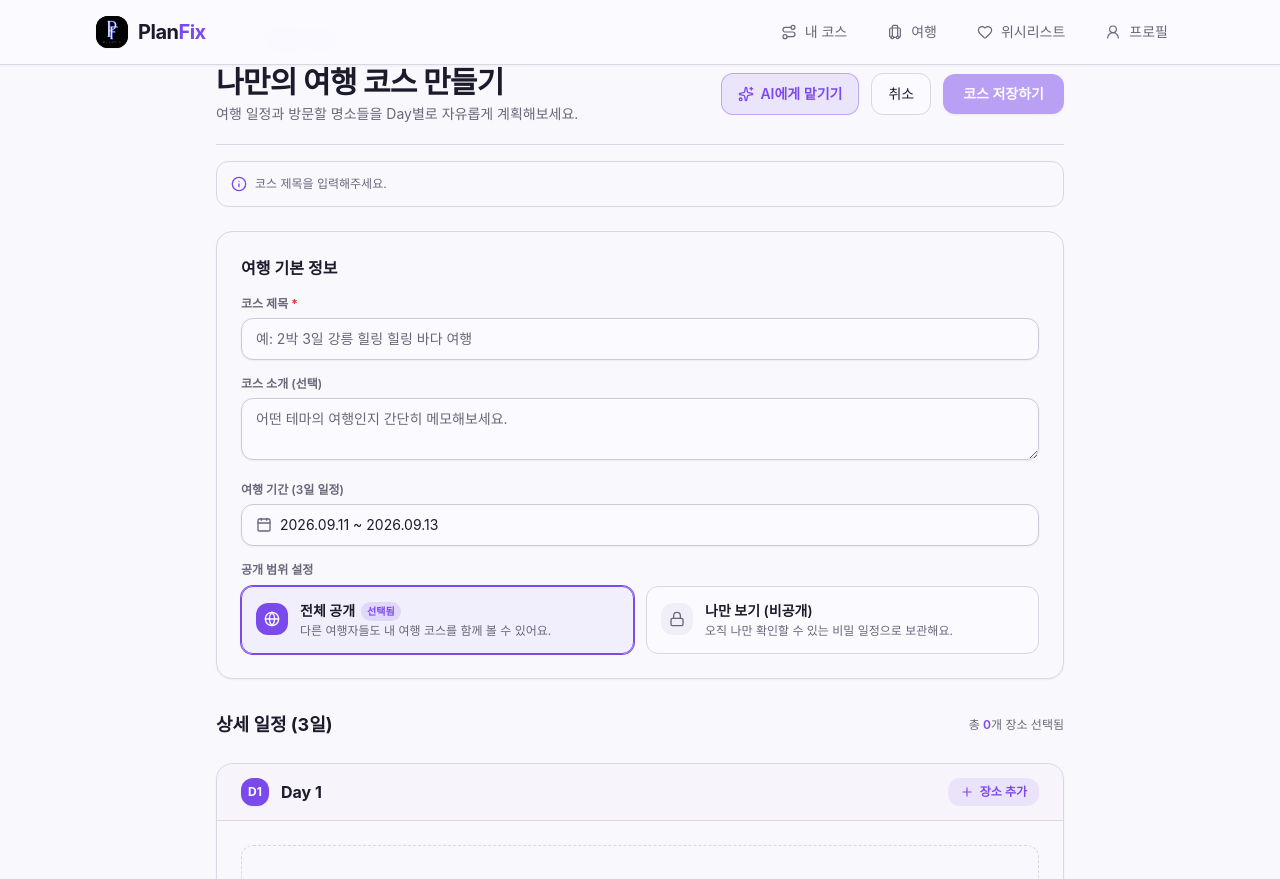
Test: CourseCreatePage › 장소 추가를 누르면 모달이 열리고 장소를 선택하면 해당 Day에 추가된다
The width and height of the screenshot is (1280, 879).
Type "강릉 바다 여행" into the field with placeholder "예: 2박 3일 강릉 힐링 힐링 바다 여행" at point(640, 339), box [241,318,1039,360]
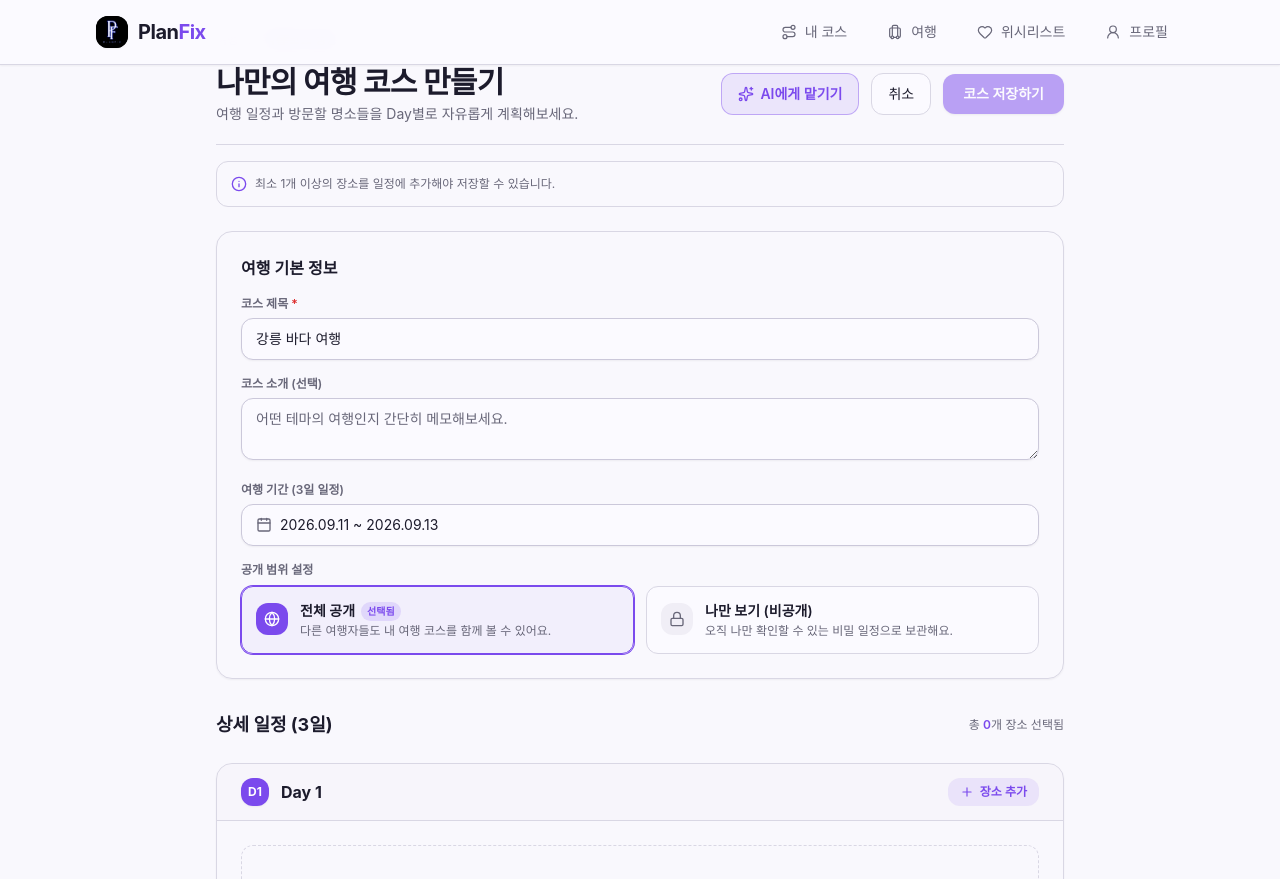
// Day 1의 장소 추가 버튼 클릭
Click the button "장소 추가" at point(993, 792), box [948,778,1039,806]
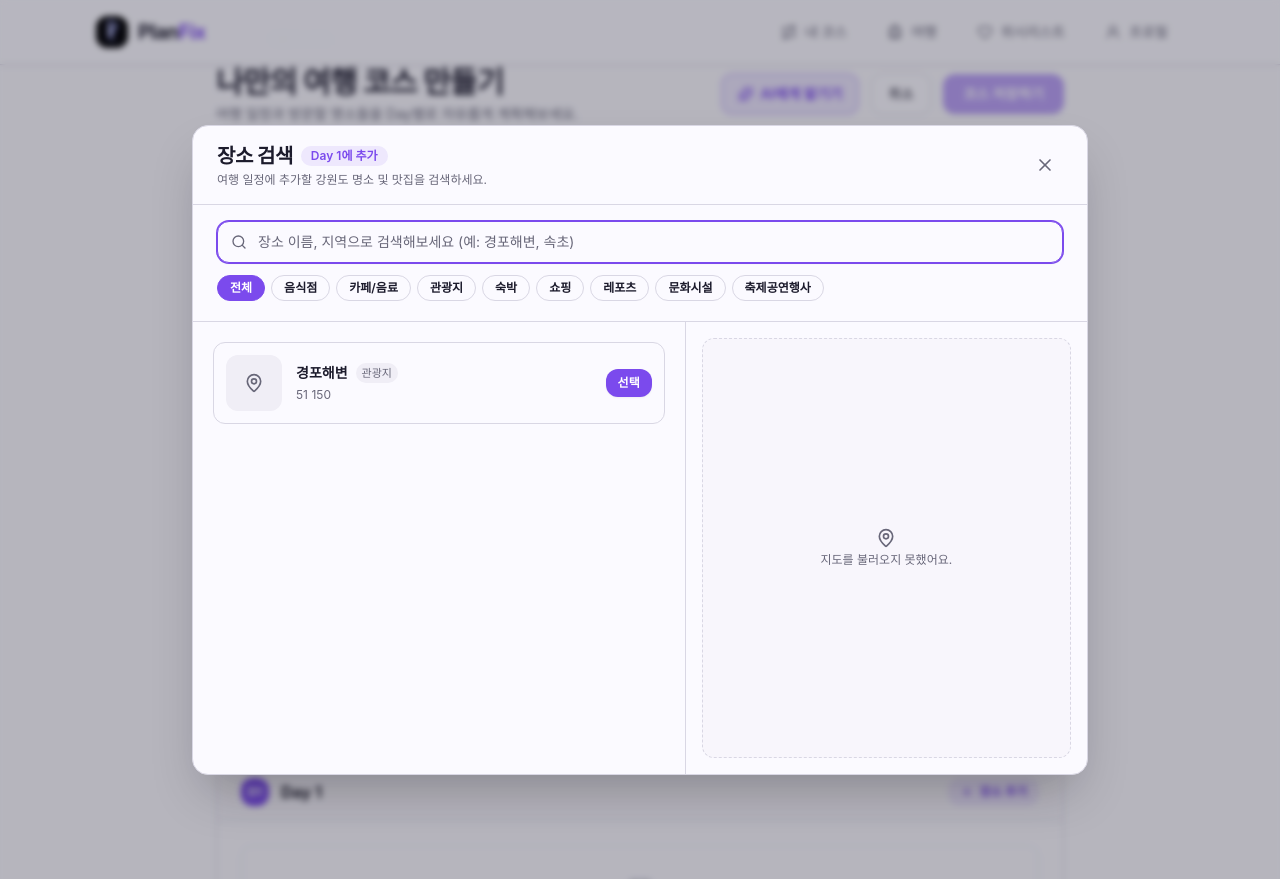
Now the text "Day 1에 추가" is shown, box [301,146,388,166]
Now the text "경포해변" is shown, box [296,363,348,383]
Click the button "선택" at point(629, 383), box [606,369,652,397]
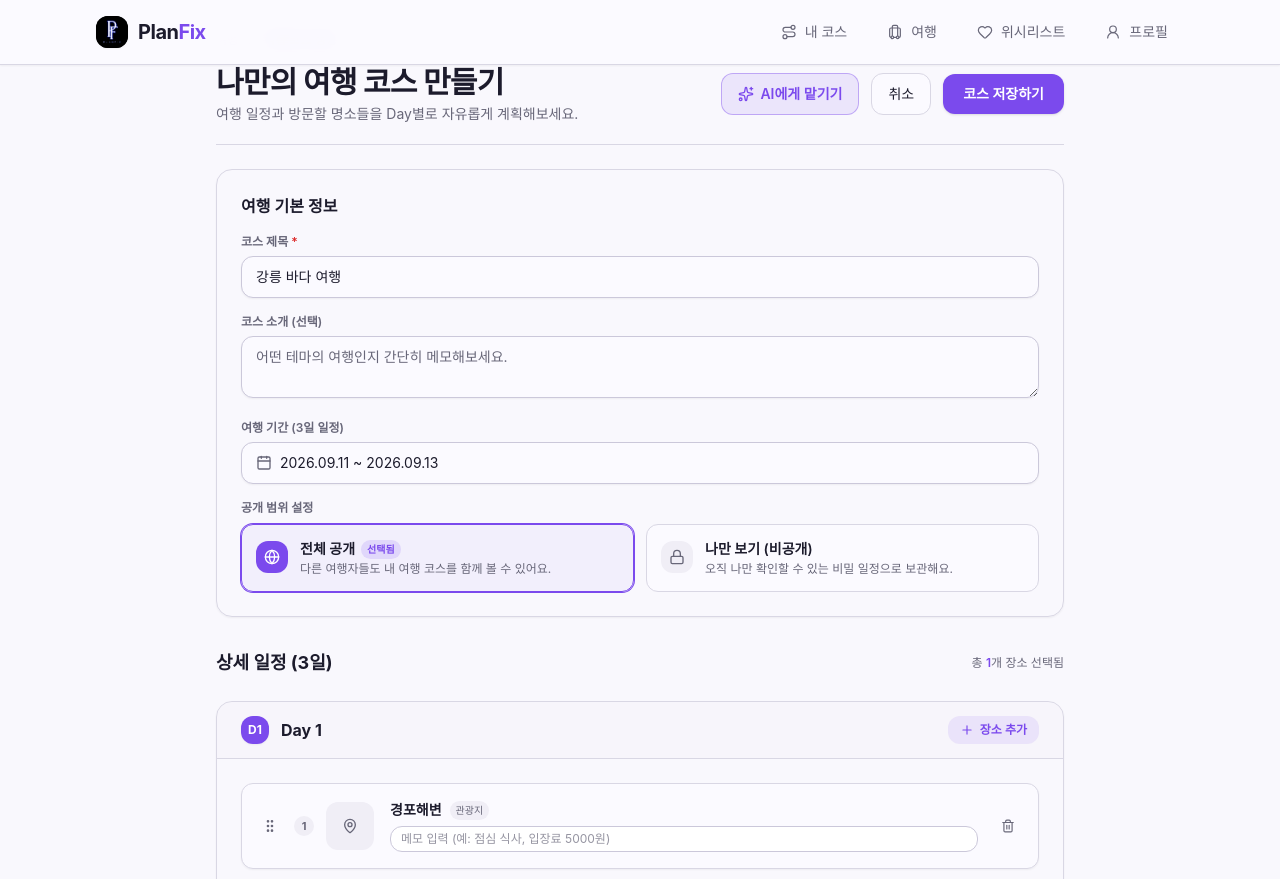
Now the text "경포해변" is shown, box [390,800,442,820]
Now the button "코스 저장하기" is enabled, box [943,74,1064,114]
